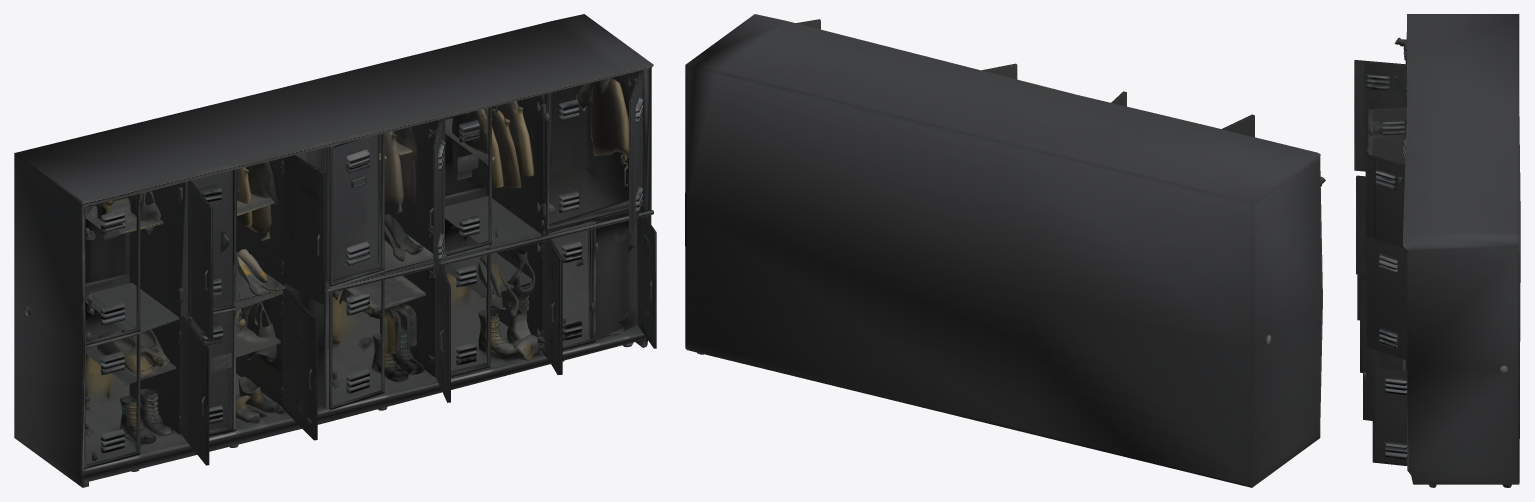
File: Locker Model.glb
The picture shows the model from 3 angles, left to right: view 1: azimuth 30°, elevation 25°; view 2: azimuth 150°, elevation 25°; view 3: azimuth 270°, elevation 25°; orthographic projection. The views are drawn at different scales.
Visible parts, largest first — view 1: tripo_44570dbc_d682_458d_ab4c_e83b60ab71e3; view 2: tripo_44570dbc_d682_458d_ab4c_e83b60ab71e3; view 3: tripo_44570dbc_d682_458d_ab4c_e83b60ab71e3.
Part boxes in pixels (x1,y1,x2,y2): tripo_44570dbc_d682_458d_ab4c_e83b60ab71e3: [14, 14, 656, 487]; tripo_44570dbc_d682_458d_ab4c_e83b60ab71e3: [685, 14, 1325, 487]; tripo_44570dbc_d682_458d_ab4c_e83b60ab71e3: [1354, 14, 1520, 487].
Size of the model in its own units: 0.9995 by 0.4878 by 0.3013.
1 material, 1 textured.
